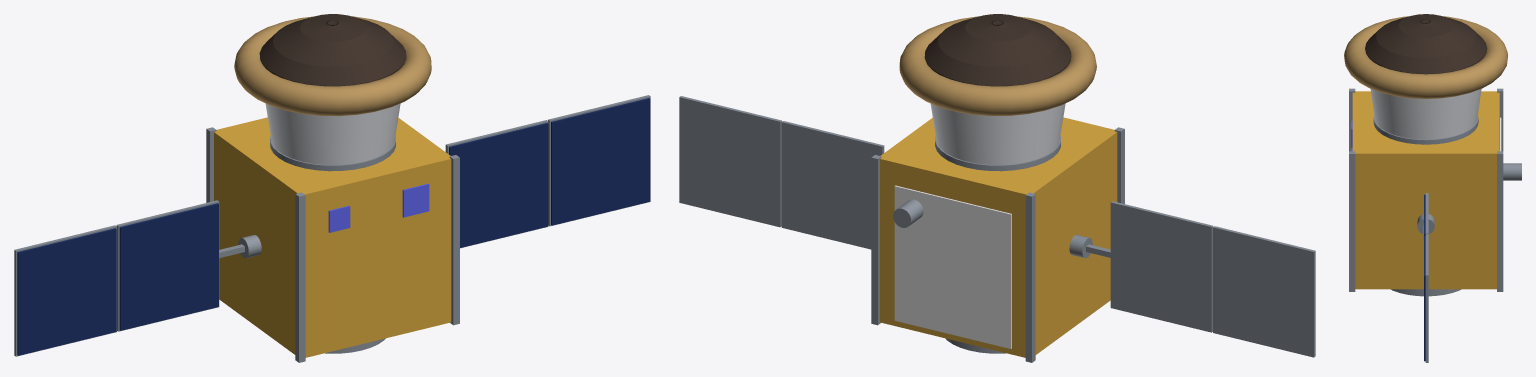
The model's file is SP-HRT.glb.
The picture shows the model from 3 angles, left to right: view 1: azimuth 30°, elevation 25°; view 2: azimuth 150°, elevation 25°; view 3: azimuth 270°, elevation 25°; orthographic projection. The views are drawn at different scales.
Parts seen in each view (by area): view 1: service_module_structure, solar_panel_-X1, solar_panel_-X2, solar_panel_+X2, solar_panel_+X1, nose, heat_shield_packed, capsule_backshell, corner_rail_-X-Y, corner_rail_+X-Y, panel_frame_-X2, panel_frame_+X2 (+5 smaller); view 2: service_module_structure, radiator_+Y_face, panel_frame_-X2, panel_frame_+X2, panel_frame_-X1, panel_frame_+X1, nose, heat_shield_packed, capsule_backshell, corner_rail_-X+Y, corner_rail_+X+Y, separation_interface (+2 smaller); view 3: service_module_structure, nose, heat_shield_packed, capsule_backshell, corner_rail_+X-Y, corner_rail_+X+Y, separation_interface, panel_frame_+X2, launch_separation_ring, star_tracker, corner_rail_-X+Y, solar_panel_+X2 (+3 smaller).
Boxes of the visible parts, left/top/right/bottom form: service_module_structure: left=214, top=117, right=451, bottom=357; solar_panel_-X1: left=119, top=203, right=218, bottom=330; solar_panel_-X2: left=17, top=228, right=116, bottom=355; solar_panel_+X2: left=551, top=98, right=650, bottom=225; solar_panel_+X1: left=449, top=123, right=548, bottom=247; nose: left=259, top=14, right=406, bottom=86; heat_shield_packed: left=234, top=16, right=431, bottom=116; capsule_backshell: left=265, top=103, right=400, bottom=164; corner_rail_-X-Y: left=295, top=192, right=305, bottom=362; corner_rail_+X-Y: left=449, top=155, right=459, bottom=325; panel_frame_-X2: left=14, top=225, right=116, bottom=356; panel_frame_+X2: left=548, top=95, right=650, bottom=226; service_module_structure: left=880, top=117, right=1117, bottom=357; radiator_+Y_face: left=894, top=185, right=1011, bottom=348; panel_frame_-X2: left=1213, top=226, right=1315, bottom=357; panel_frame_+X2: left=679, top=96, right=781, bottom=227; panel_frame_-X1: left=1110, top=201, right=1213, bottom=332; panel_frame_+X1: left=781, top=121, right=884, bottom=249; nose: left=924, top=14, right=1071, bottom=86; heat_shield_packed: left=899, top=16, right=1096, bottom=116; capsule_backshell: left=930, top=103, right=1065, bottom=164; corner_rail_-X+Y: left=1025, top=192, right=1035, bottom=362; corner_rail_+X+Y: left=871, top=155, right=881, bottom=325; separation_interface: left=935, top=136, right=1060, bottom=171; service_module_structure: left=1352, top=91, right=1499, bottom=289; nose: left=1365, top=14, right=1487, bottom=74; heat_shield_packed: left=1344, top=16, right=1507, bottom=98; capsule_backshell: left=1370, top=89, right=1481, bottom=139; corner_rail_+X-Y: left=1349, top=151, right=1355, bottom=291; corner_rail_+X+Y: left=1497, top=151, right=1503, bottom=291; separation_interface: left=1373, top=116, right=1478, bottom=144; panel_frame_+X2: left=1425, top=234, right=1428, bottom=362; launch_separation_ring: left=1391, top=289, right=1461, bottom=296; star_tracker: left=1503, top=163, right=1521, bottom=180; corner_rail_-X+Y: left=1497, top=88, right=1503, bottom=151; solar_panel_+X2: left=1424, top=236, right=1425, bottom=361.
Size of the model in its own units: 2.45 by 1.13 by 0.716.
